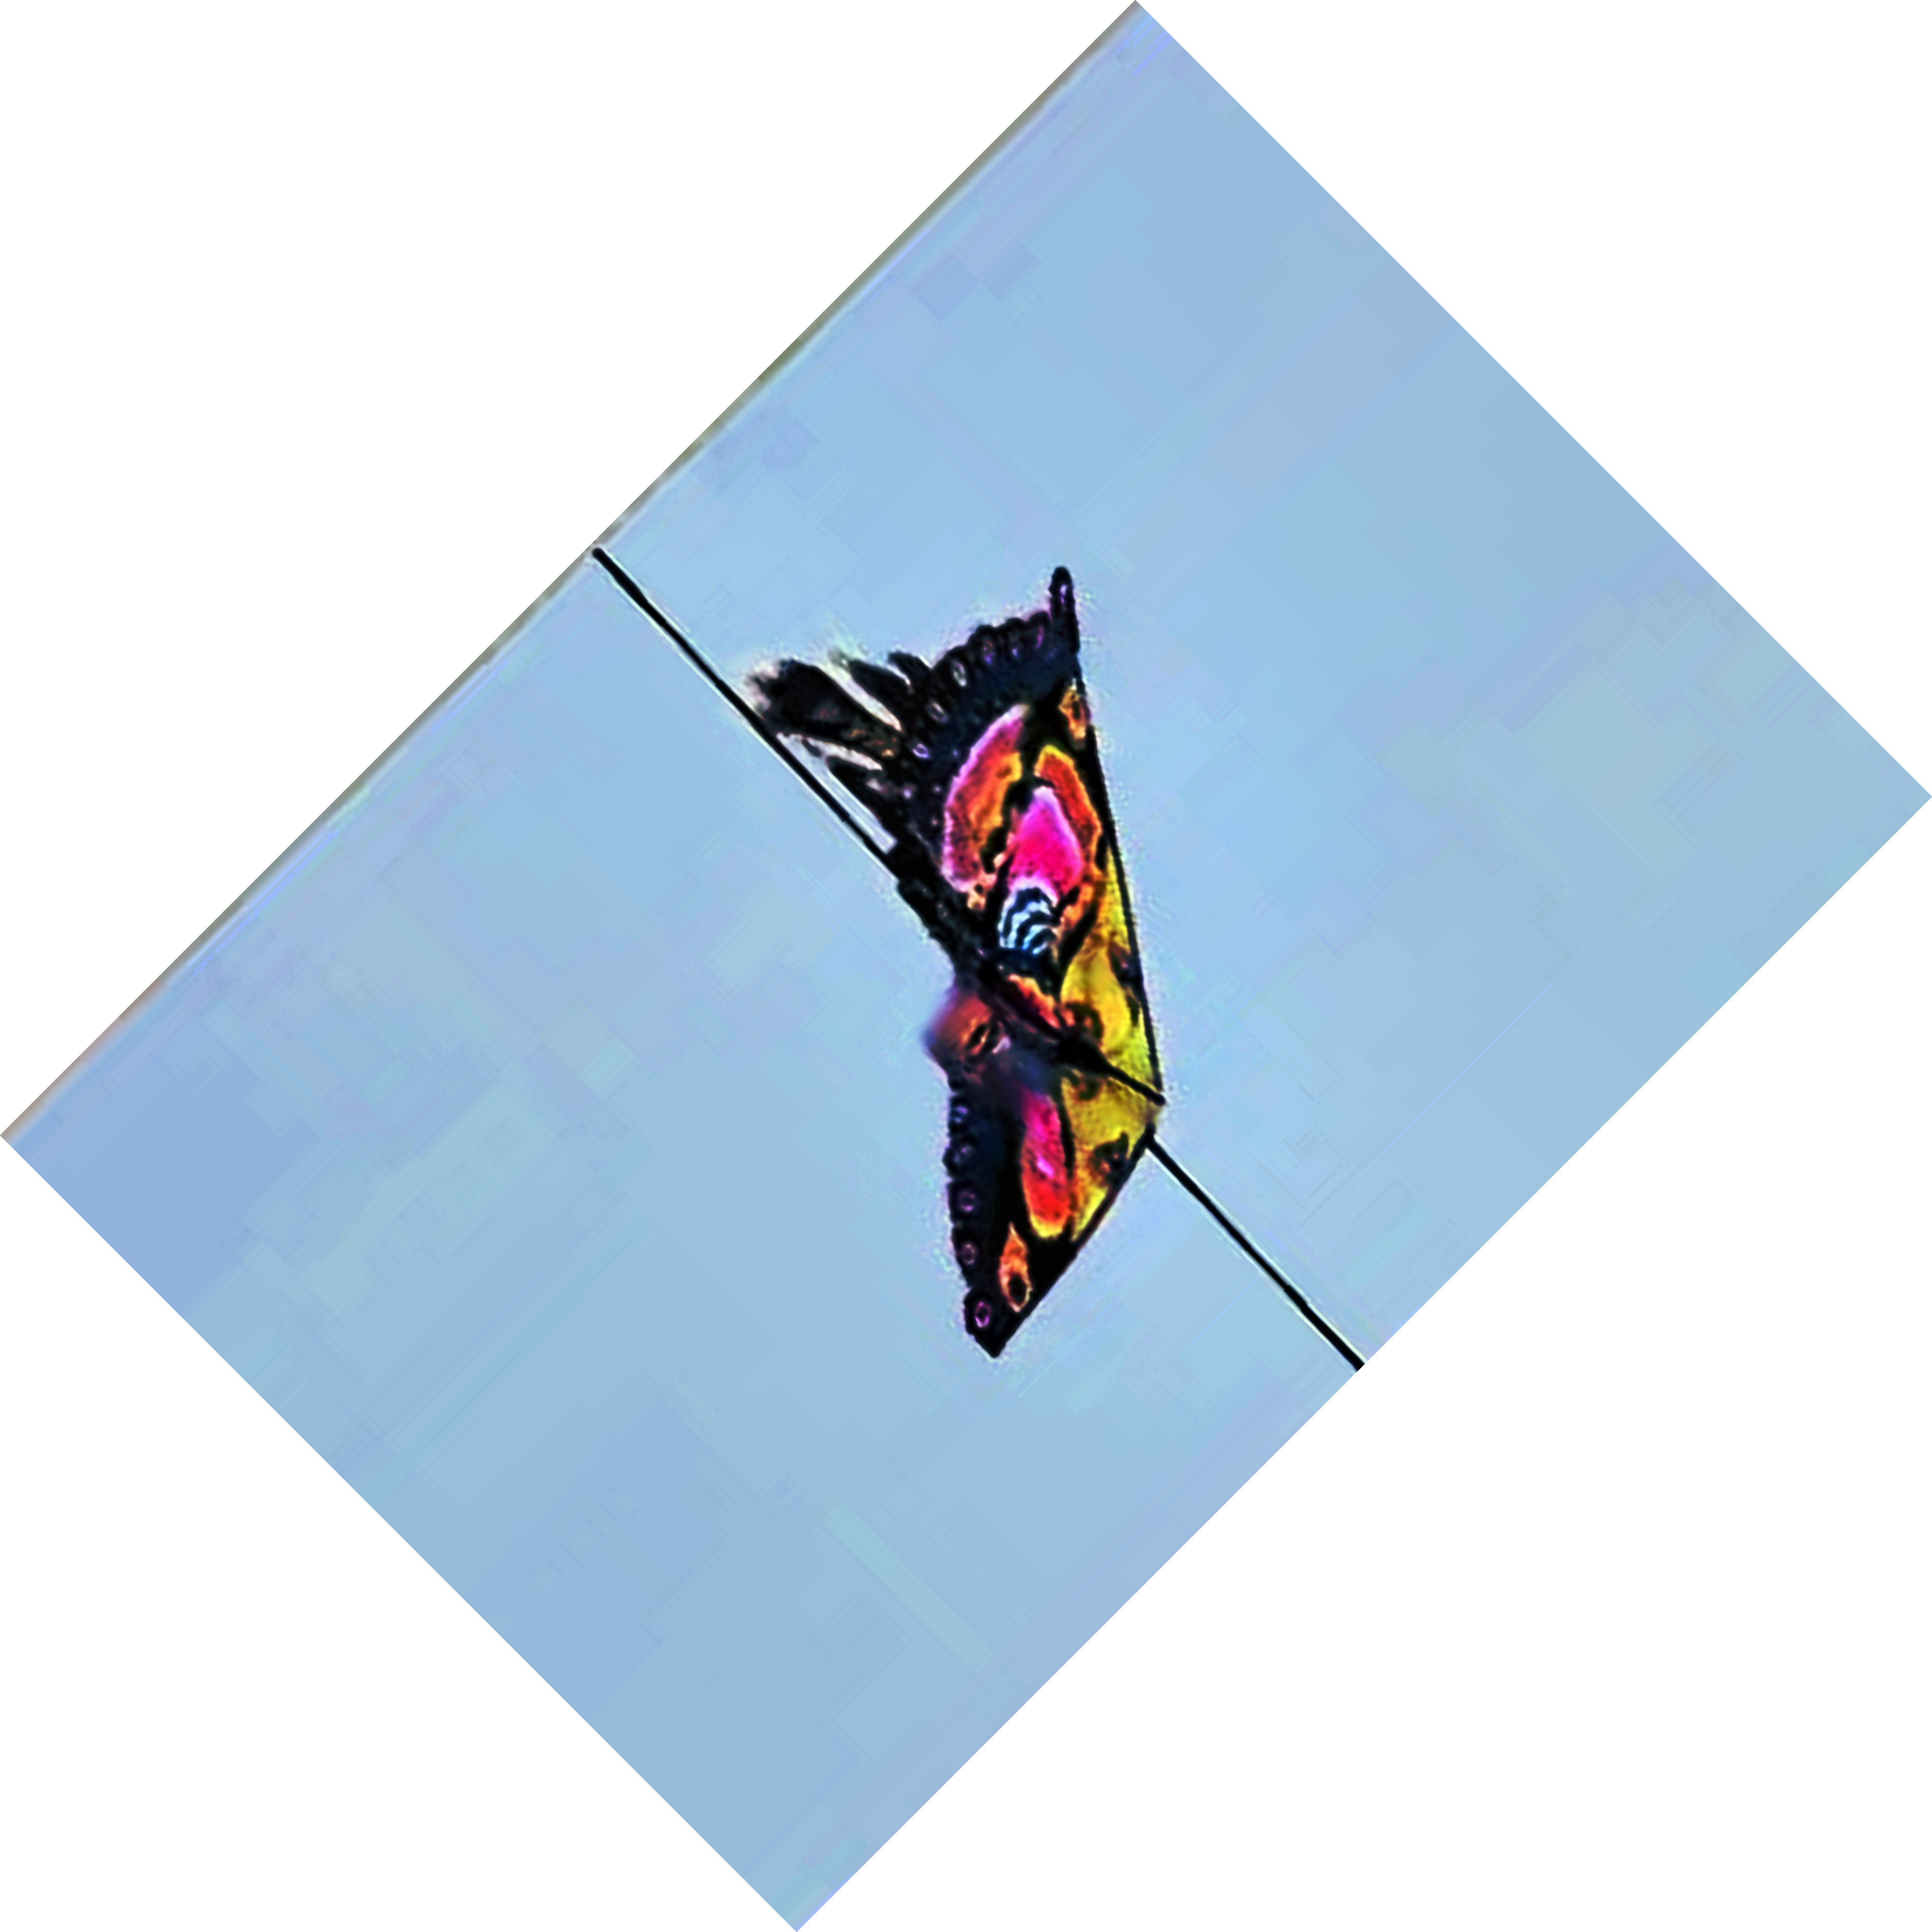wire foreign body: (715, 594, 1256, 1412)
